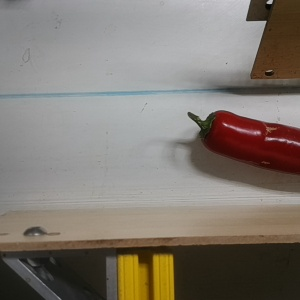Cut Point: (196, 108, 226, 152)
